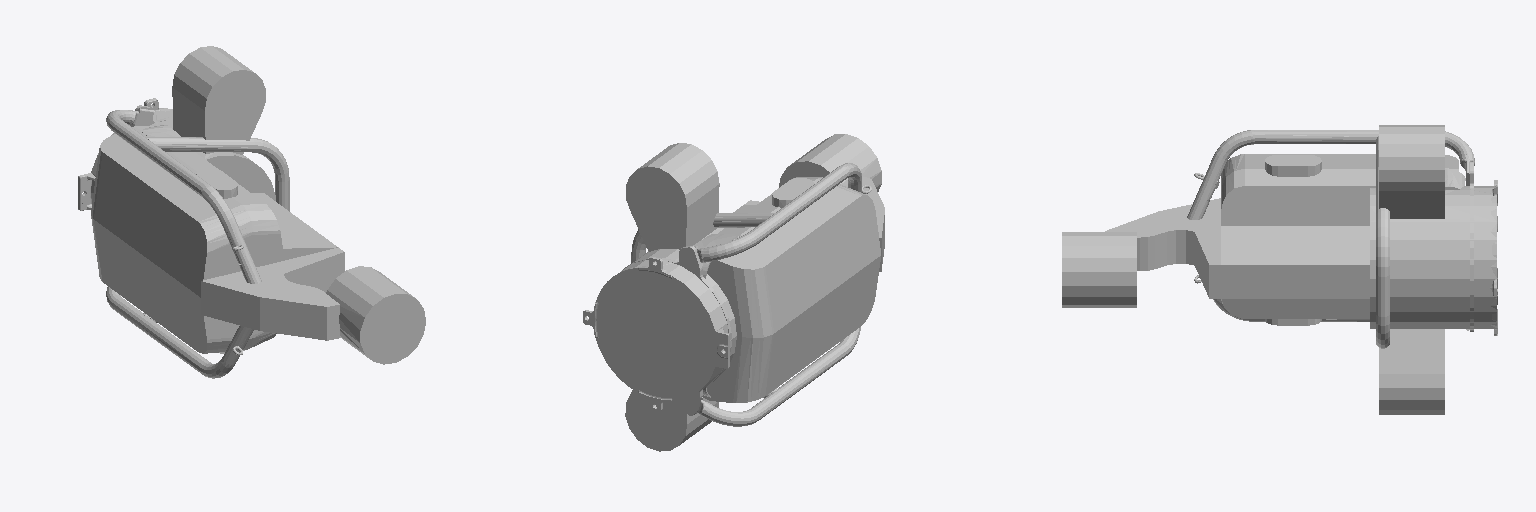
3 renders of one model, left to right at view 1: azimuth 30°, elevation 25°; view 2: azimuth 150°, elevation 25°; view 3: azimuth 270°, elevation 25°, orthographic.
Visible parts, largest first — view 1: TORSO-L; view 2: TORSO-L; view 3: TORSO-L.
Part boxes in pixels (bbox=[...]): TORSO-L: bbox=[78, 46, 425, 378]; TORSO-L: bbox=[583, 134, 884, 451]; TORSO-L: bbox=[1062, 125, 1497, 414].
Bounding box in the file's own units: 0.4173 × 0.6707 × 0.9368.